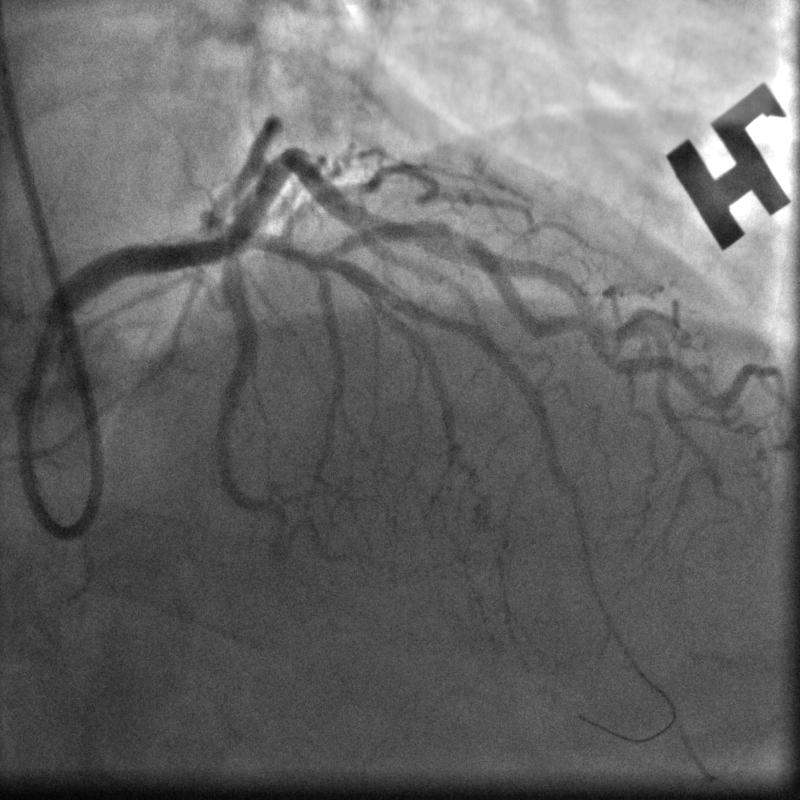Stenosis: (438, 214, 480, 251)
